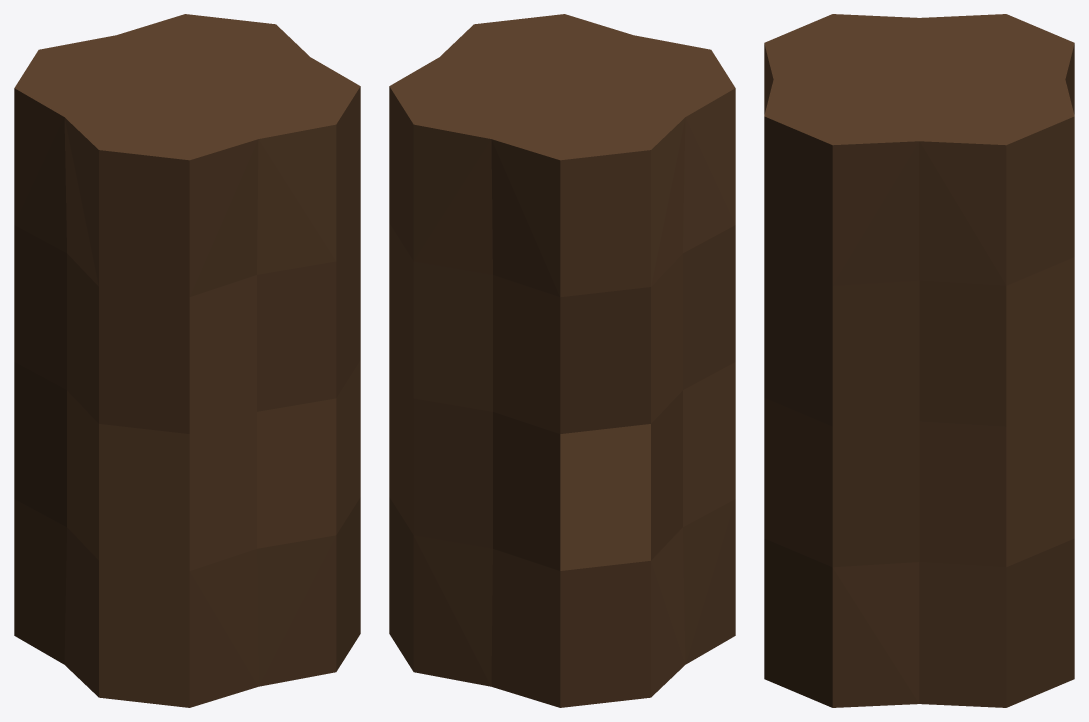
File: Section_3.glb
The picture shows the model from 3 angles, left to right: view 1: azimuth 30°, elevation 25°; view 2: azimuth 150°, elevation 25°; view 3: azimuth 270°, elevation 25°; orthographic projection. The views are drawn at different scales.
Visible parts, largest first — view 1: Section; view 2: Section; view 3: Section.
Part boxes in pixels (x1,y1,x2,y2): Section: (14, 14, 360, 707); Section: (389, 14, 735, 707); Section: (764, 14, 1074, 707).
Size of the model in its own units: 2.6 by 5.2 by 2.6.
